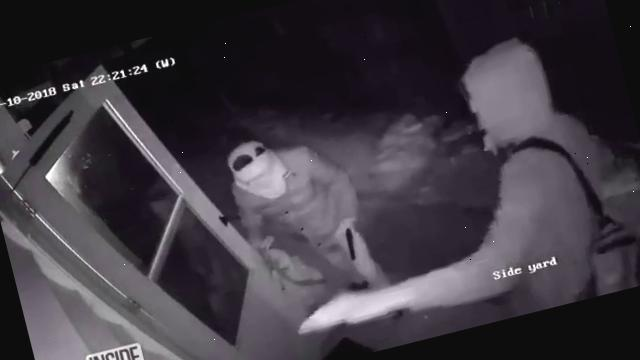suspicion: (276, 14, 640, 358), (197, 100, 414, 360)
